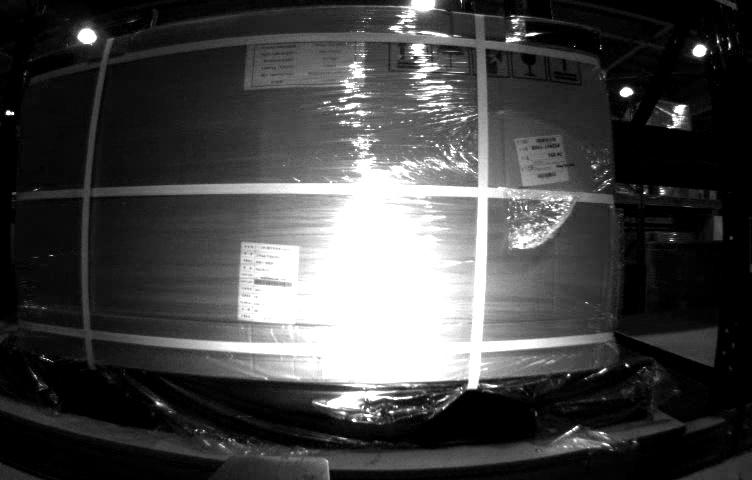True Barcode: (514, 130, 573, 186)
